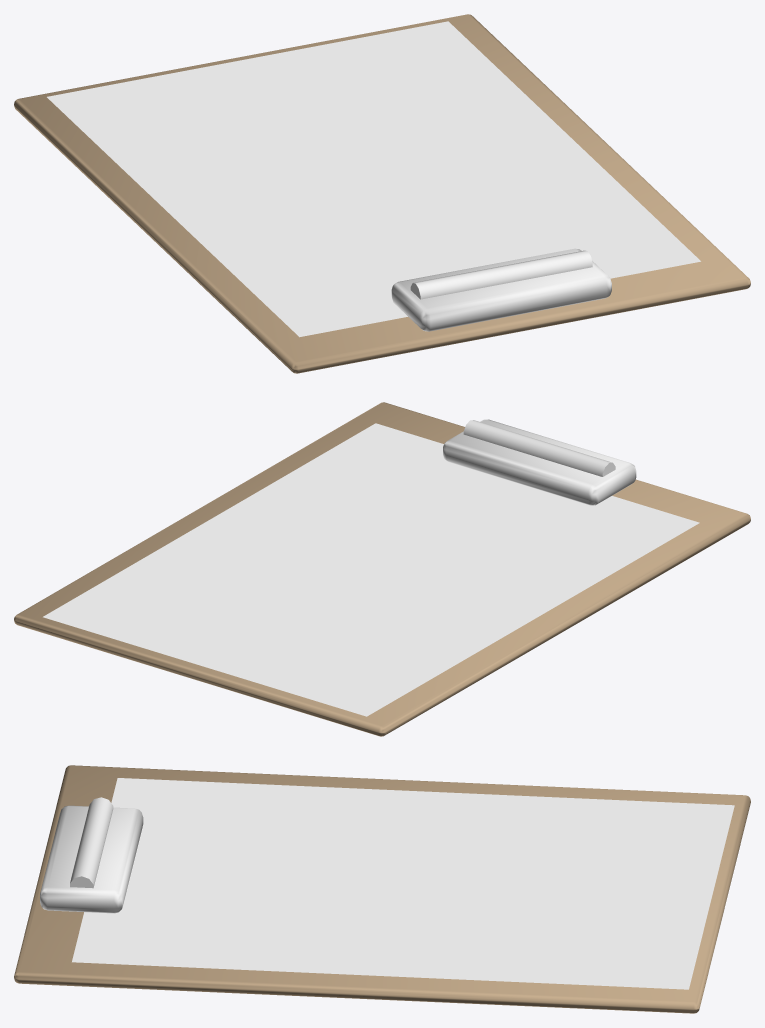
File: Ward_Obs.fbx
3 views of the same model, one above another, from view 1: azimuth 30°, elevation 25°; view 2: azimuth 150°, elevation 25°; view 3: azimuth 270°, elevation 25° (orthographic). The views are drawn at different scales.
Parts seen in each view (by area): view 1: Ward_Obs; view 2: Ward_Obs; view 3: Ward_Obs.
Boxes of the visible parts, x1=… form: Ward_Obs: x1=14, y1=14, x2=750, y2=373; Ward_Obs: x1=14, y1=402, x2=750, y2=736; Ward_Obs: x1=14, y1=765, x2=750, y2=1013.
Bounding box in the file's own units: 0.2726 × 0.024 × 0.3527.
